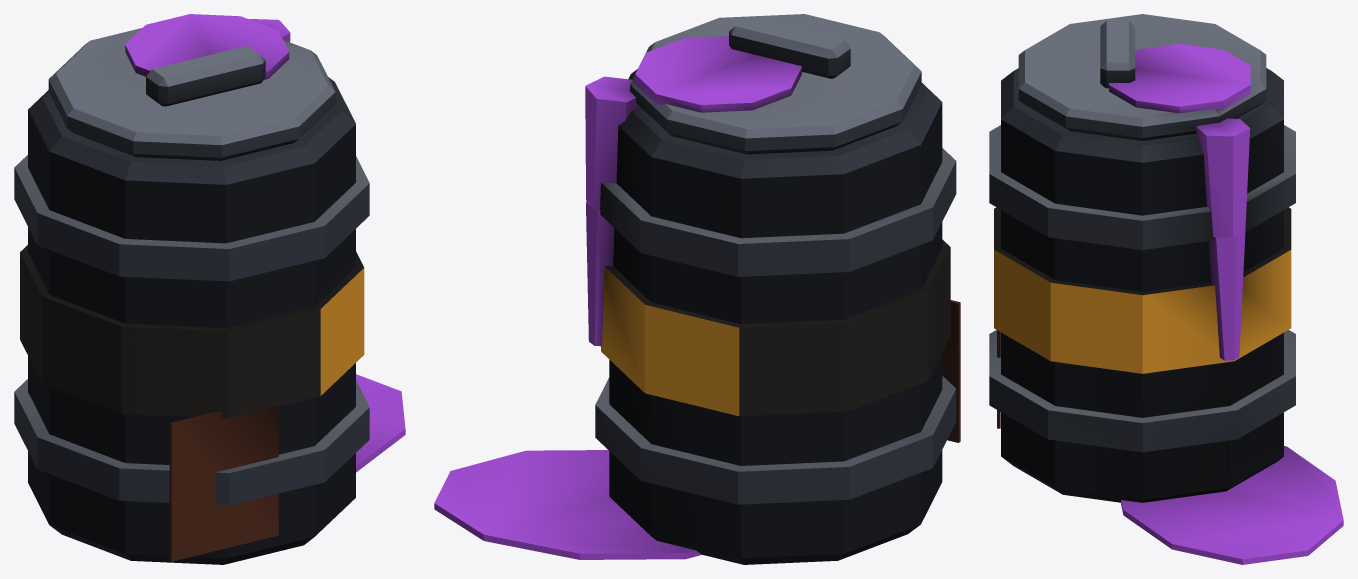
File: Barrel.fbx
3 renders of one model, left to right at view 1: azimuth 30°, elevation 25°; view 2: azimuth 150°, elevation 25°; view 3: azimuth 270°, elevation 25°, orthographic. The views are drawn at different scales.
Visible parts, largest first — view 1: Body, Leak_Glow; view 2: Body, Leak_Glow; view 3: Body, Leak_Glow.
Boxes of the visible parts, <box> form: Body: <box>14,28,369,564</box>; Leak_Glow: <box>125,14,405,472</box>; Body: <box>595,14,960,564</box>; Leak_Glow: <box>434,36,801,559</box>; Body: <box>989,14,1295,502</box>; Leak_Glow: <box>1109,44,1343,564</box>.
Bounding box in the file's own units: 3.53 × 3.62 × 2.86.
